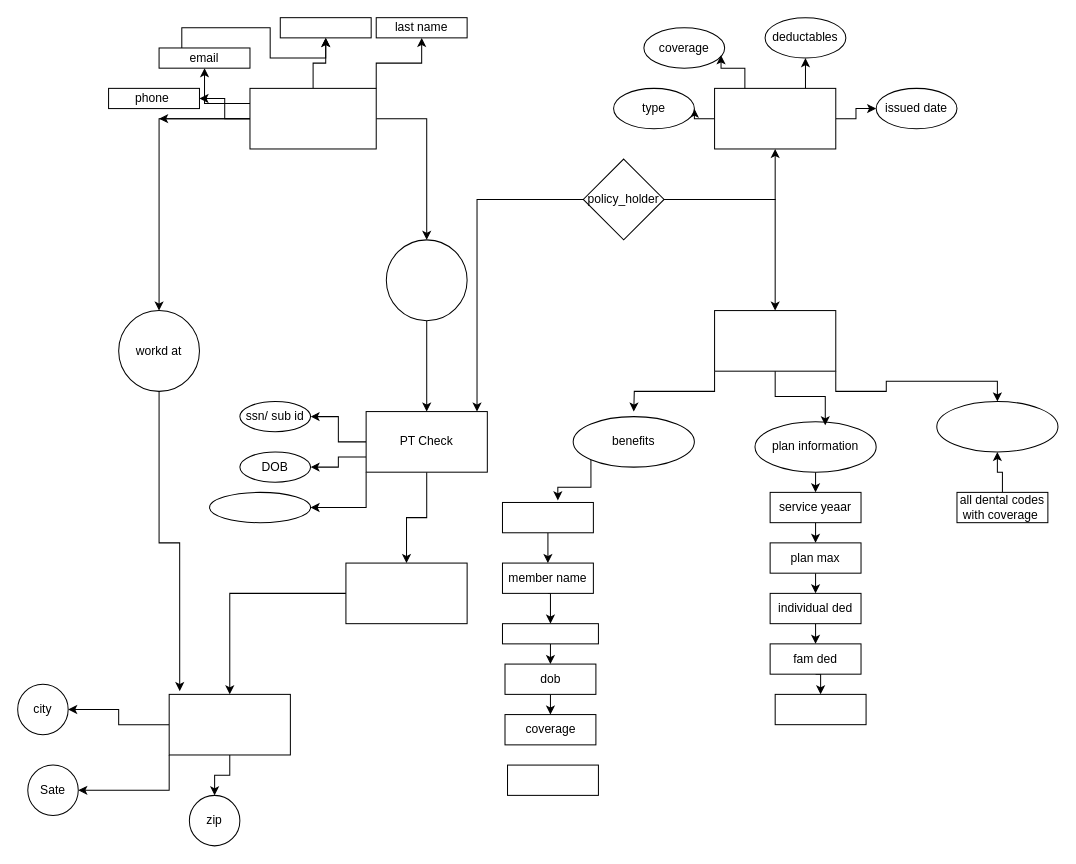
Some shapes in this 1076 by 864 pixel diagram are drawn without their labels. Here are the shapes that lost their labels. From the top down, the centre of each, then its label:
At [325,27]: "first name".
At [312,118]: "doctor".
At [775,118]: "policy".
At [426,280]: "doctos/Agent".
At [775,340]: "Eligibility Summary".
At [997,426]: "coverage details".
At [260,507]: "Patient Relation".
At [547,517]: "req date".
At [406,593]: "lives in".
At [549,633]: "mebmber id".
At [229,724]: "Address".
At [820,709]: "studen eli".
At [552,779]: "effective date".
